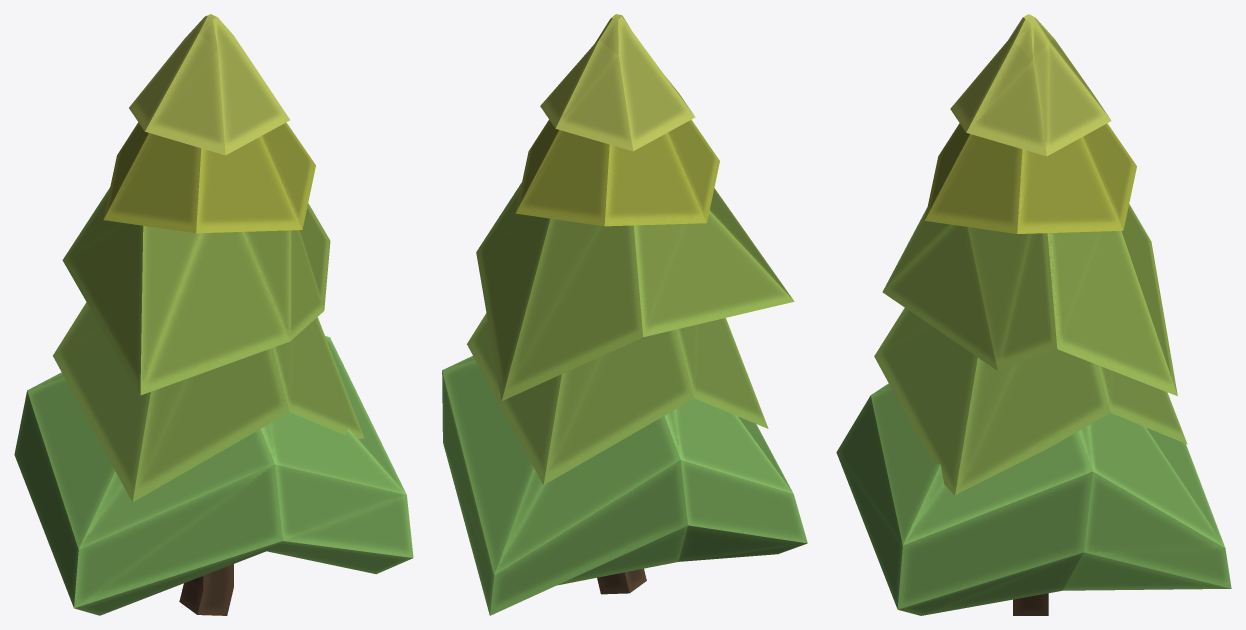
The model's file is Tree5.37733018.glb.
3 views of the same model, side by side, from view 1: azimuth 30°, elevation 25°; view 2: azimuth 150°, elevation 25°; view 3: azimuth 270°, elevation 25° (orthographic). The views are drawn at different scales.
Parts seen in each view (by area): view 1: Circle; view 2: Circle; view 3: Circle.
Boxes of the visible parts, box(x1,y1,x2,y2) form: Circle: box(14, 14, 413, 615); Circle: box(442, 14, 807, 615); Circle: box(836, 14, 1231, 615).
Size of the model in its own units: 8.78 by 15.56 by 9.35.
Materials: 1 (1 with a texture image).
